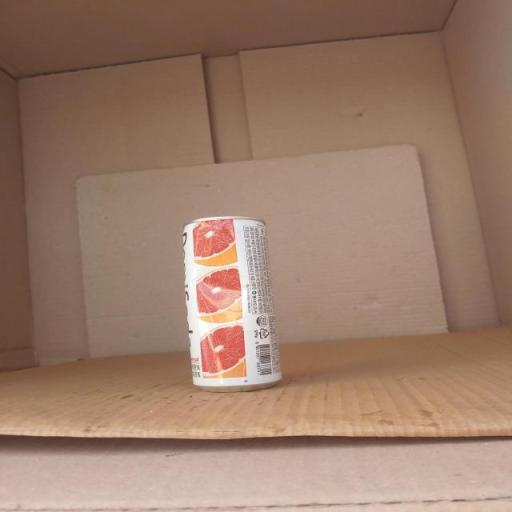metal: (161, 212, 297, 394)
